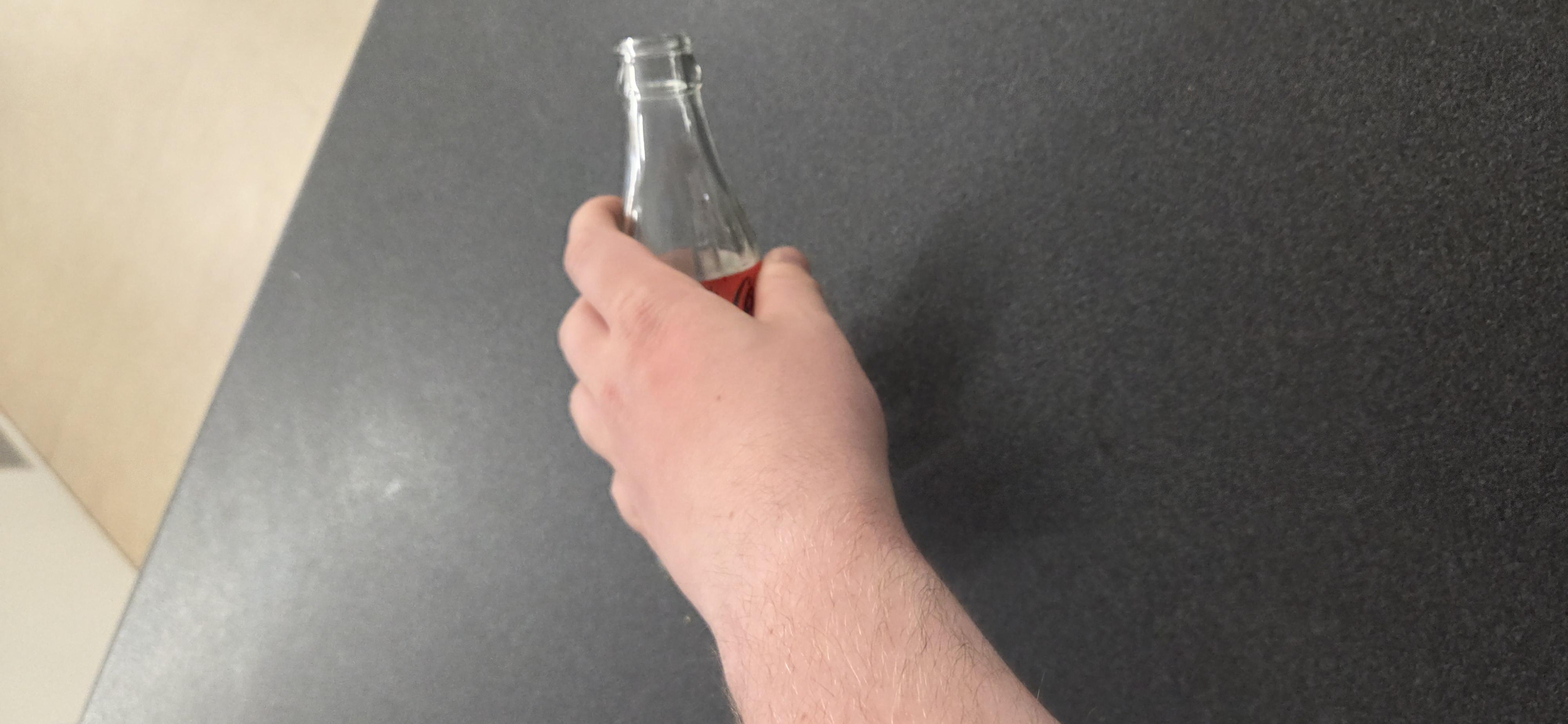Glass: (781, 279, 1517, 354)
